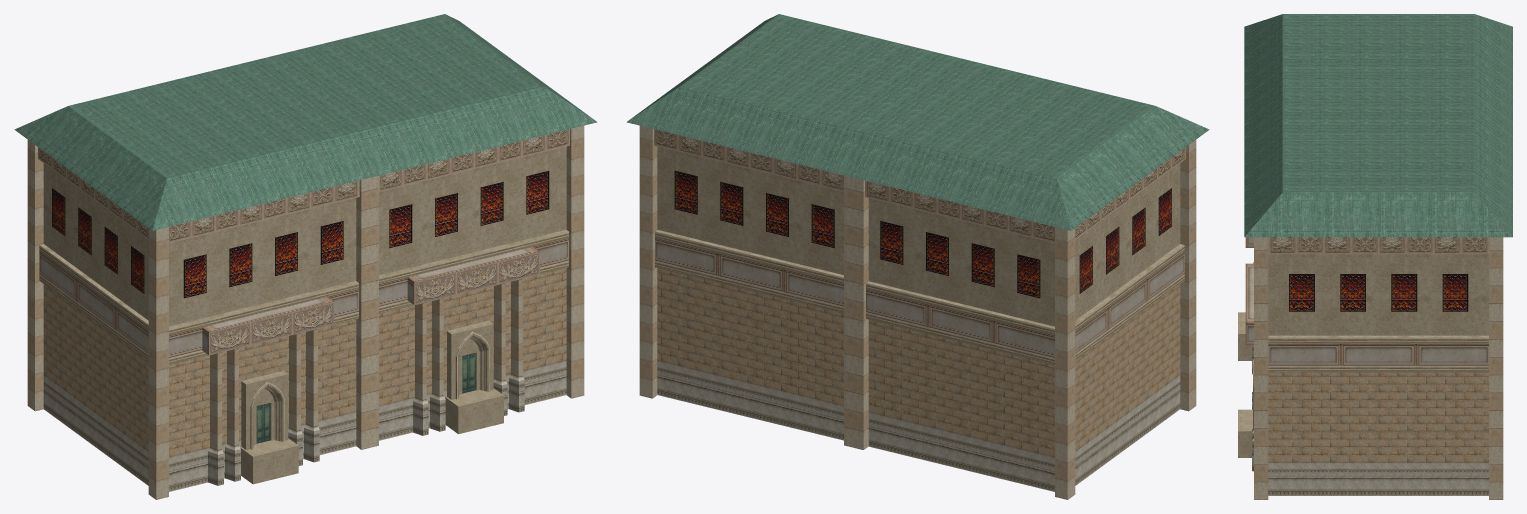
File: thm_nboo_thed_imprv_building_s10_l1.fbx
3 renders of one model, left to right at view 1: azimuth 30°, elevation 25°; view 2: azimuth 150°, elevation 25°; view 3: azimuth 270°, elevation 25°, orthographic. The views are drawn at different scales.
Parts seen in each view (by area): view 1: mesh_node; view 2: mesh_node; view 3: mesh_node.
Boxes of the visible parts, <box> form: mesh_node: <box>14,14,597,499</box>; mesh_node: <box>626,14,1209,499</box>; mesh_node: <box>1238,14,1512,499</box>.
Bounding box in the file's own units: 39 × 25.5 × 21.5.
